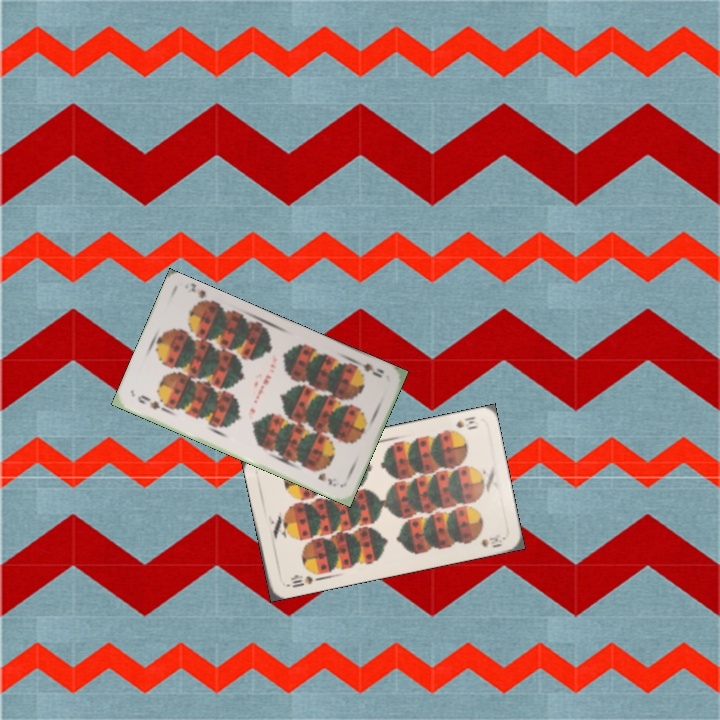S10: (442, 412, 482, 436), (282, 571, 315, 590)
S9: (349, 356, 386, 380), (134, 391, 170, 414)
